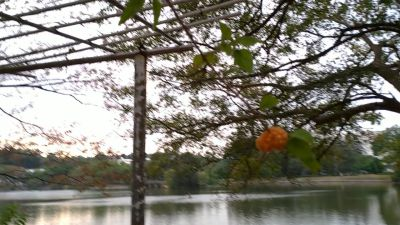eggs: (256, 125, 289, 152)
